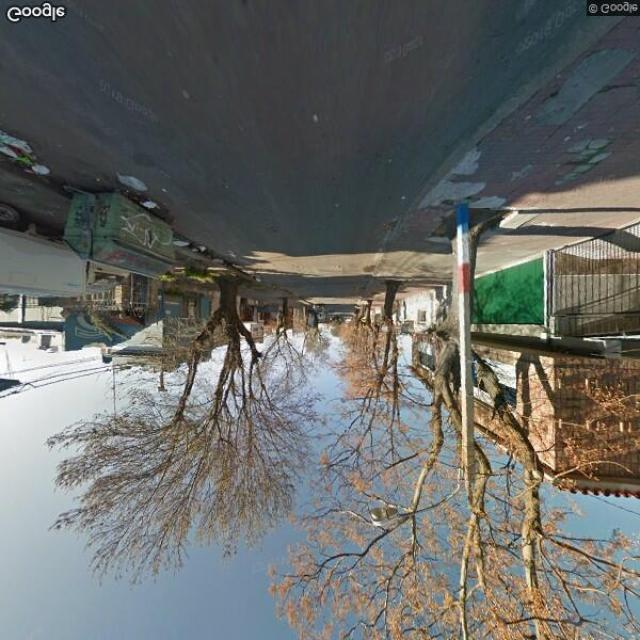garbage container: (58, 177, 185, 284)
